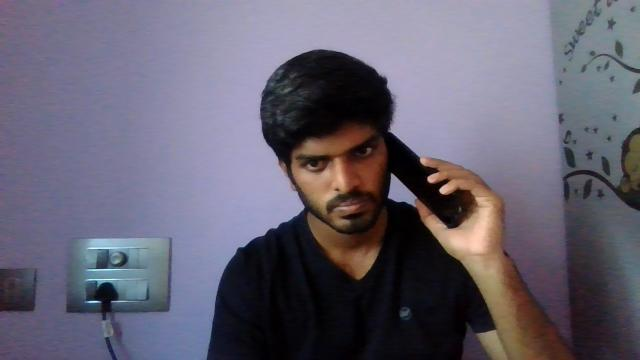PhoneUse: (384, 128, 474, 231)
SafeDriving: (347, 136, 378, 165), (297, 150, 334, 174)
